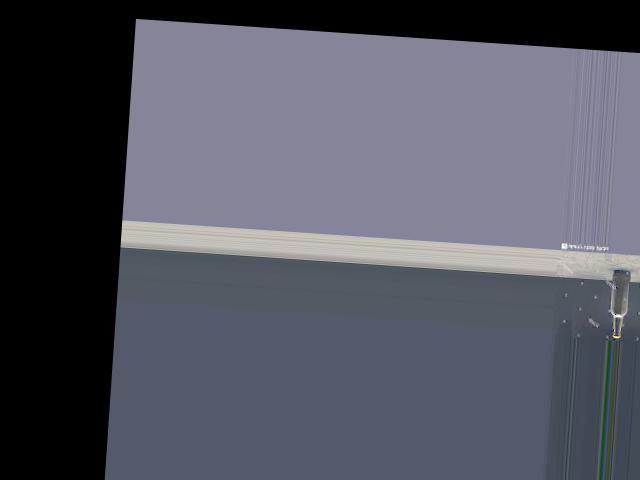beer: (610, 269, 631, 338)
